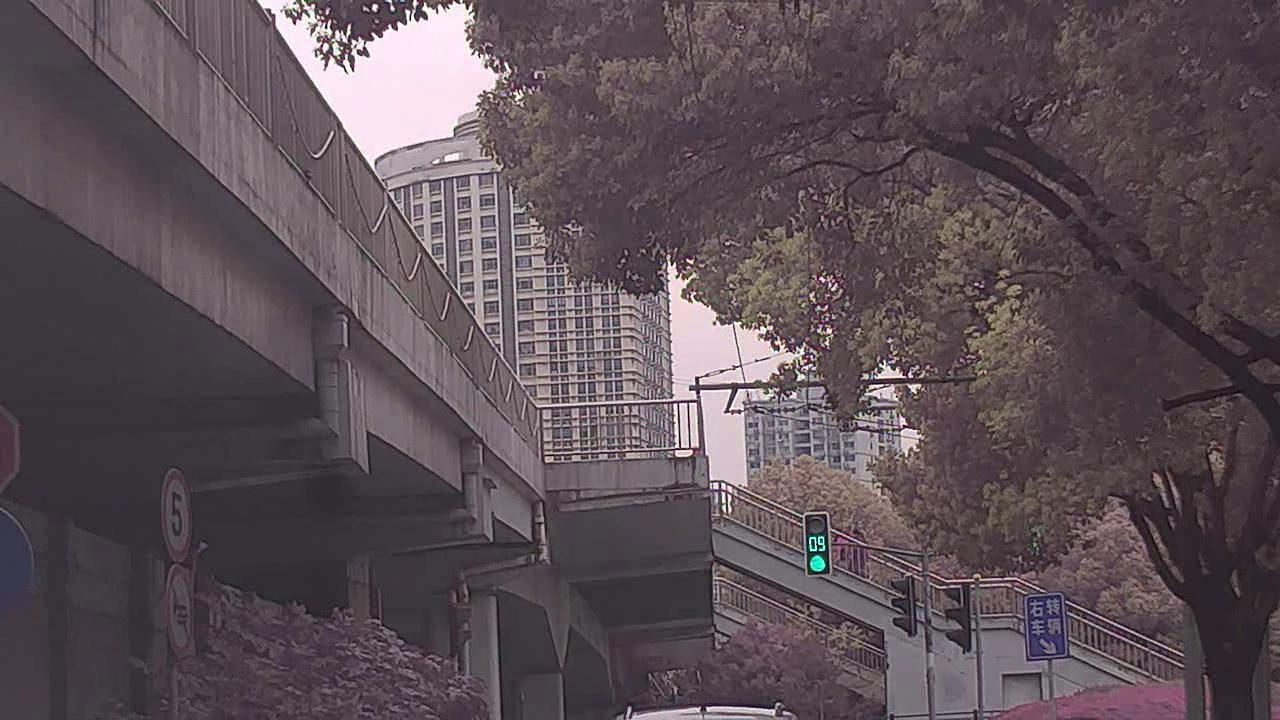traffic_light: (802, 510, 832, 578)
